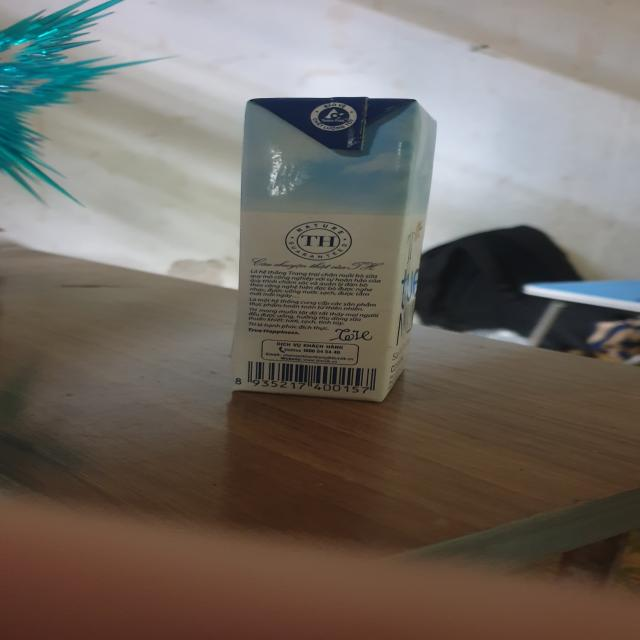TH: (230, 98, 438, 399)
